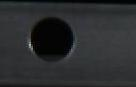holes: (27, 15, 79, 64)
